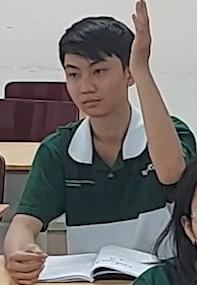Raising_Hand: (3, 5, 193, 270)
